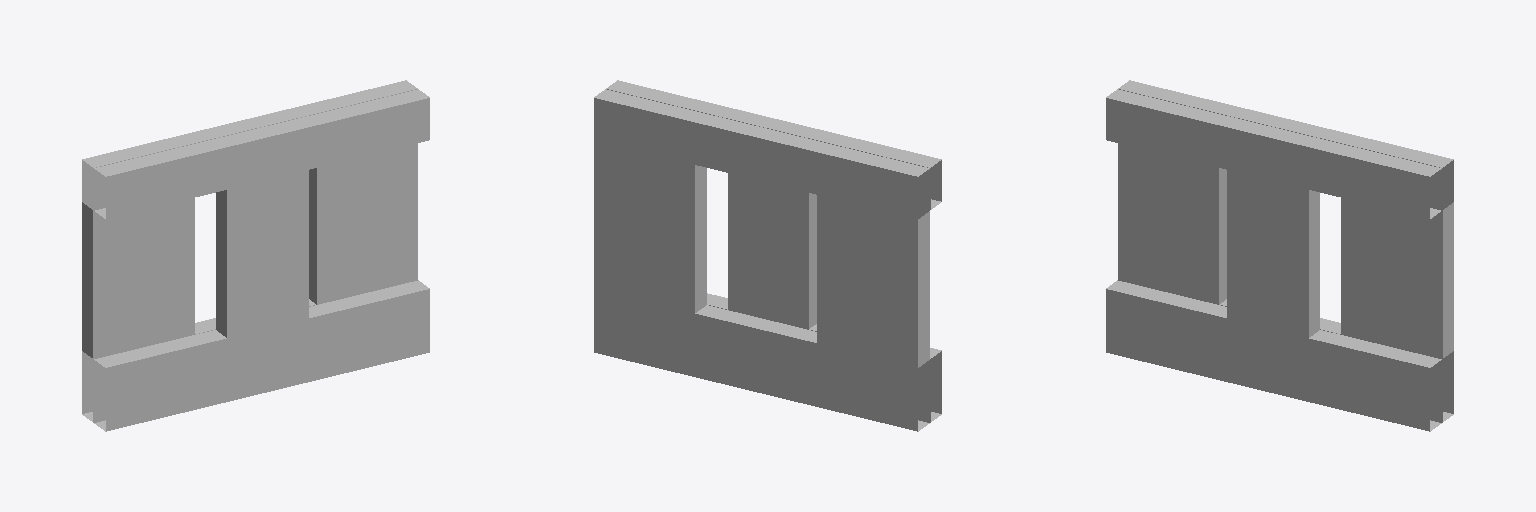
The model's file is Casey5NoMat.obj.
3 views of the same model, side by side, from view 1: azimuth 30°, elevation 25°; view 2: azimuth 150°, elevation 25°; view 3: azimuth 330°, elevation 25° (orthographic).
Visible parts, largest first — view 1: Plane, Plane.001_Plane.002; view 2: Plane.001_Plane.002, Plane; view 3: Plane, Plane.001_Plane.002.
Boxes of the visible parts, x1,y1,x2,y2 form: Plane: [94, 89, 429, 431]; Plane.001_Plane.002: [82, 80, 417, 422]; Plane.001_Plane.002: [594, 89, 929, 431]; Plane: [606, 80, 941, 422]; Plane: [1106, 89, 1441, 431]; Plane.001_Plane.002: [1118, 80, 1453, 422].
Size of the model in its own units: 16 by 12 by 2.04.